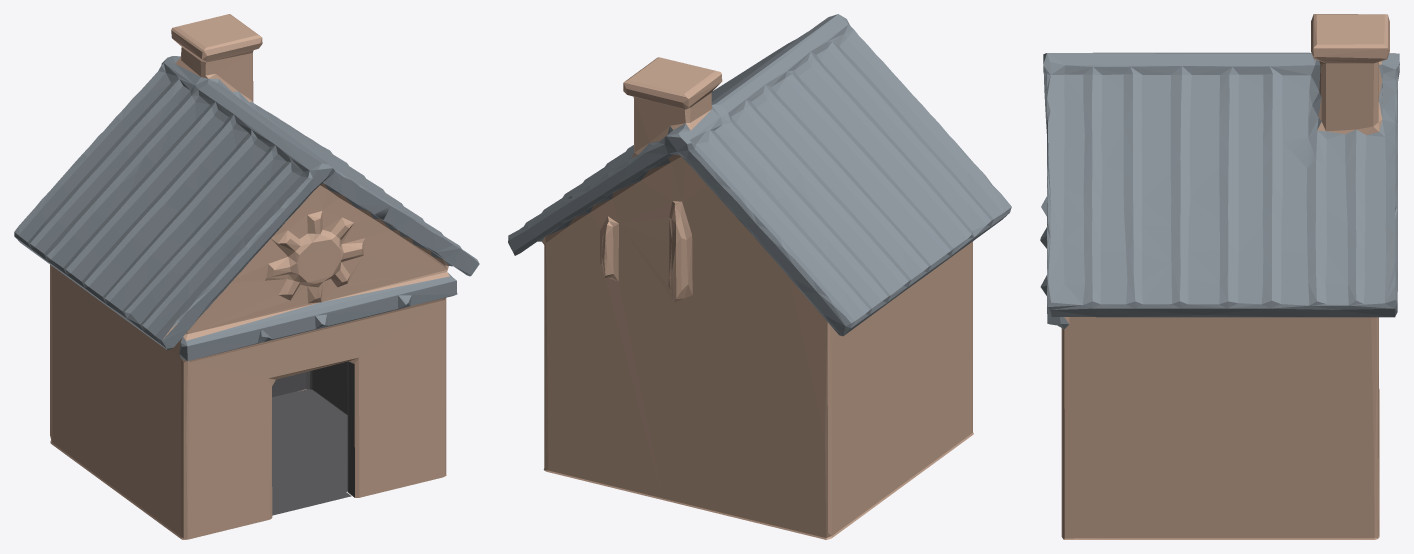
3 views of the same model, side by side, from view 1: azimuth 30°, elevation 25°; view 2: azimuth 150°, elevation 25°; view 3: azimuth 270°, elevation 25° (orthographic). The views are drawn at different scales.
Visible parts, largest first — view 1: geometry_0; view 2: geometry_0; view 3: geometry_0.
Part boxes in pixels (x1,y1,x2,y2): geometry_0: (14, 14, 479, 539); geometry_0: (508, 14, 1011, 539); geometry_0: (1040, 14, 1399, 539).
Bounding box in the file's own units: 0.8194 × 0.9384 × 0.6817.
